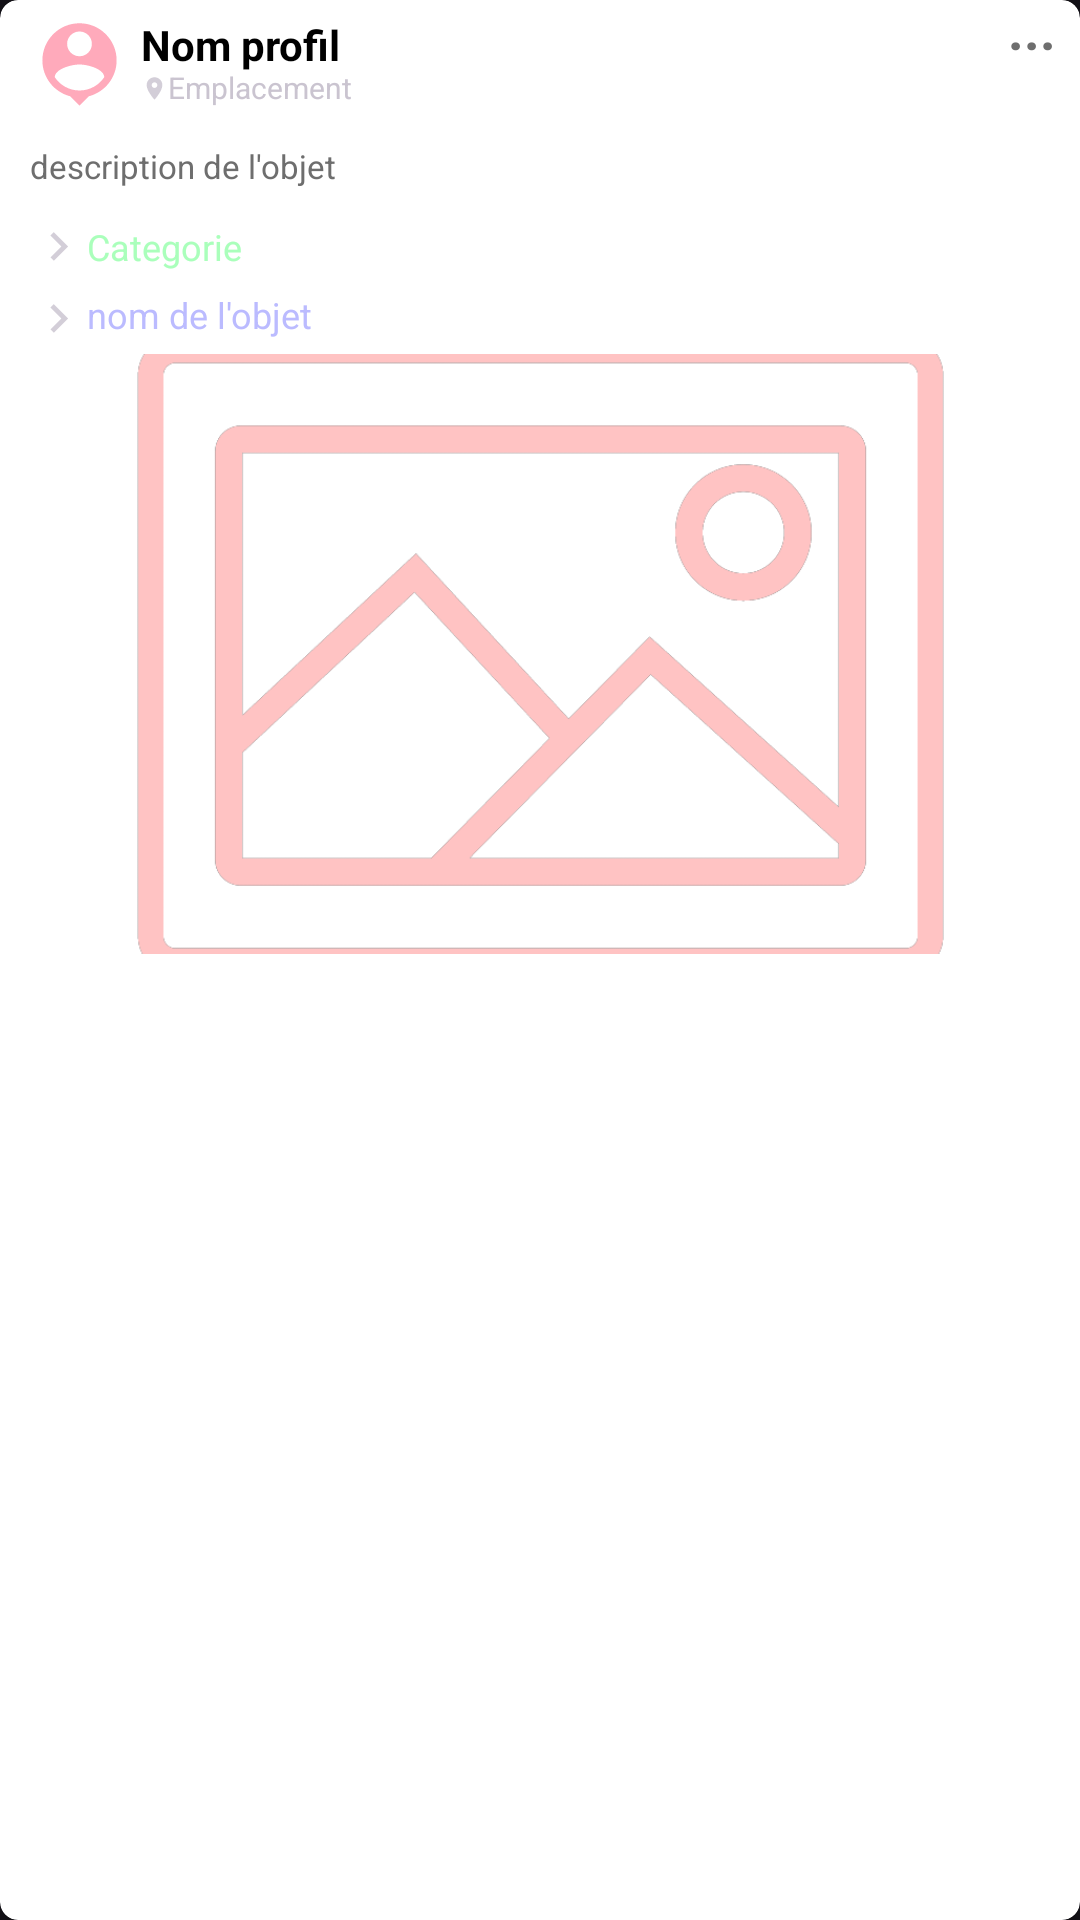

Icon click points for this 1080*1920 phone screenshot, format [x,y]:
person: [79,64]
